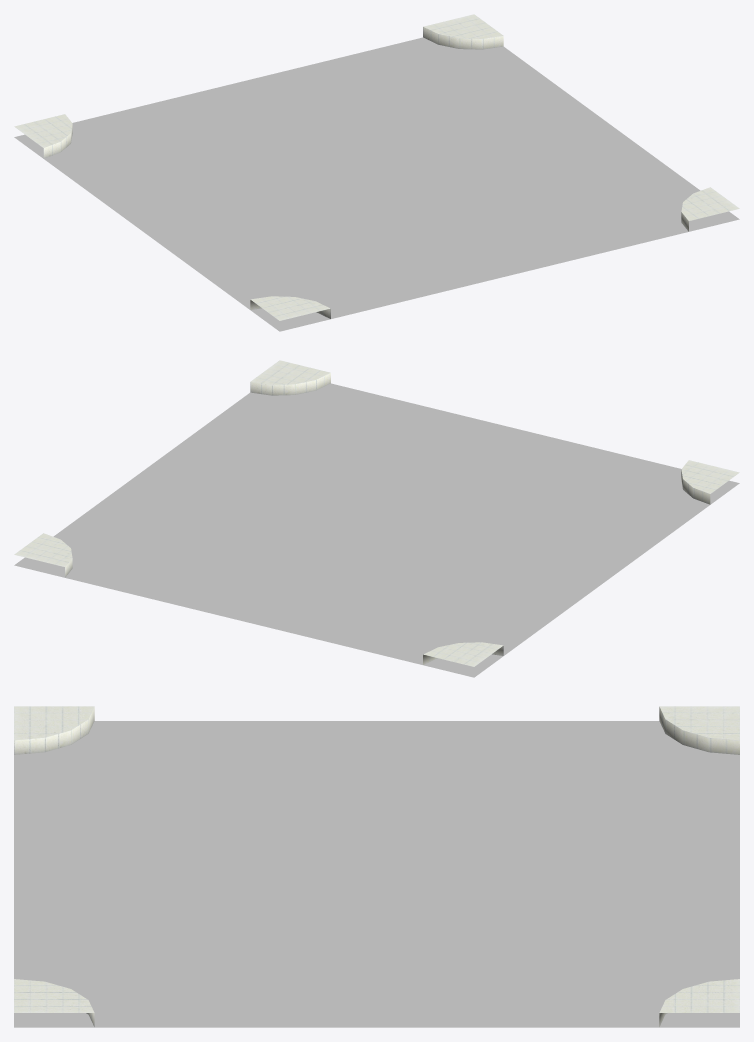
Rendered from 4way.fbx.
3 renders of one model, top to bottom at view 1: azimuth 30°, elevation 25°; view 2: azimuth 150°, elevation 25°; view 3: azimuth 270°, elevation 25°, orthographic. The views are drawn at different scales.
Visible parts, largest first — view 1: Plane.004; view 2: Plane.004; view 3: Plane.004.
Part boxes in pixels (x1,y1,x2,y2): Plane.004: [14, 14, 739, 331]; Plane.004: [14, 360, 739, 677]; Plane.004: [14, 706, 739, 1027].
Bounding box in the file's own units: 4500 × 100 × 4500.
